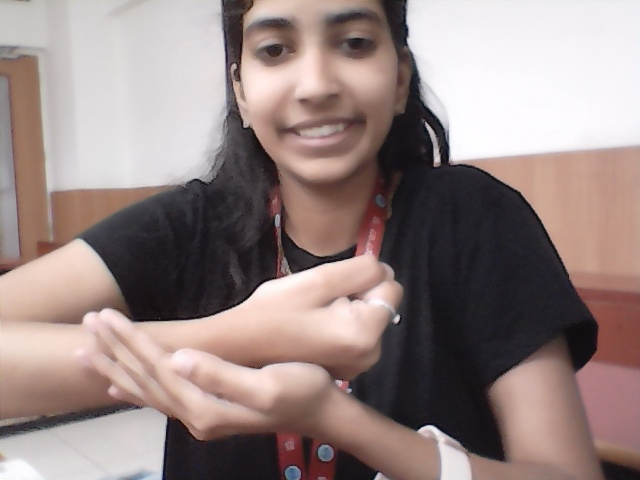Baby: (67, 231, 428, 454)
